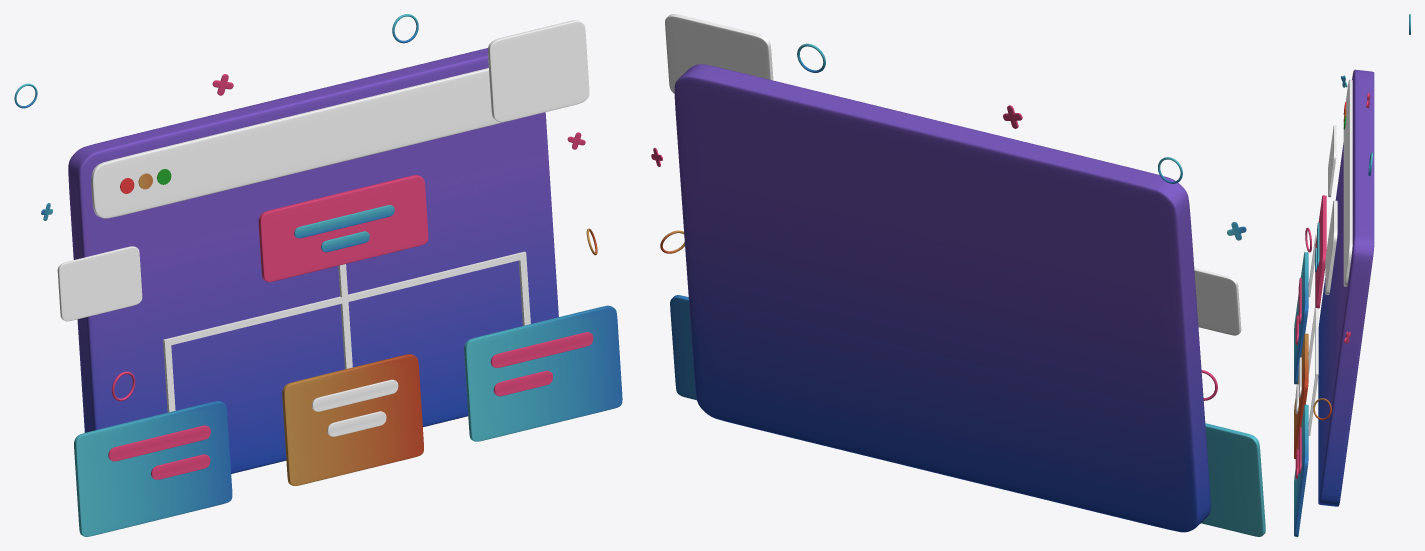
Rendered from sitemap-3d-animated-icon-1404859296813.glb.
3 views of the same model, side by side, from view 1: azimuth 30°, elevation 25°; view 2: azimuth 150°, elevation 25°; view 3: azimuth 270°, elevation 25° (orthographic). The views are drawn at different scales.
Visible parts, largest first — view 1: Cube, Cube.001, Left Frame, Right Frame, Mid Frame, Top Frame, Cube.005, Cube.009, Cube.019, Cube.024, Left Frame.001, Right Frame.001 (+6 smaller); view 2: Cube, Left Frame, Cube.005, Cube.009, Right Frame; view 3: Cube, Cube.001, Right Frame, Left Frame, Mid Frame, Top Frame, Cube.005, Cube.024, Cube.009, Cube.019, Cube.027, Left Frame.001 (+1 smaller).
Part boxes in pixels (x1,y1,x2,y2): Cube: [68, 48, 558, 473]; Cube.001: [91, 68, 508, 218]; Left Frame: [74, 401, 232, 536]; Right Frame: [464, 305, 622, 441]; Mid Frame: [282, 354, 423, 485]; Top Frame: [258, 175, 428, 281]; Cube.005: [488, 20, 589, 122]; Cube.009: [57, 246, 142, 321]; Cube.019: [163, 296, 342, 412]; Cube.024: [348, 251, 530, 325]; Left Frame.001: [108, 425, 210, 461]; Right Frame.001: [490, 332, 593, 367]; Cube: [674, 64, 1210, 532]; Left Frame: [1201, 423, 1265, 536]; Cube.005: [665, 14, 773, 93]; Cube.009: [1194, 268, 1241, 335]; Right Frame: [670, 295, 696, 400]; Cube: [1318, 69, 1374, 506]; Cube.001: [1343, 79, 1352, 286]; Right Frame: [1294, 404, 1308, 536]; Left Frame: [1294, 252, 1308, 384]; Mid Frame: [1294, 333, 1308, 458]; Top Frame: [1315, 195, 1326, 308]; Cube.005: [1325, 200, 1337, 294]; Cube.024: [1308, 306, 1318, 435]; Cube.009: [1328, 125, 1336, 197]; Cube.019: [1308, 233, 1316, 305]; Cube.027: [1308, 304, 1315, 374]; Left Frame.001: [1298, 277, 1301, 323].
Bounding box in the file's own units: 6.47 × 4.46 × 1.48.
Materials: 12 (5 with a texture image).
